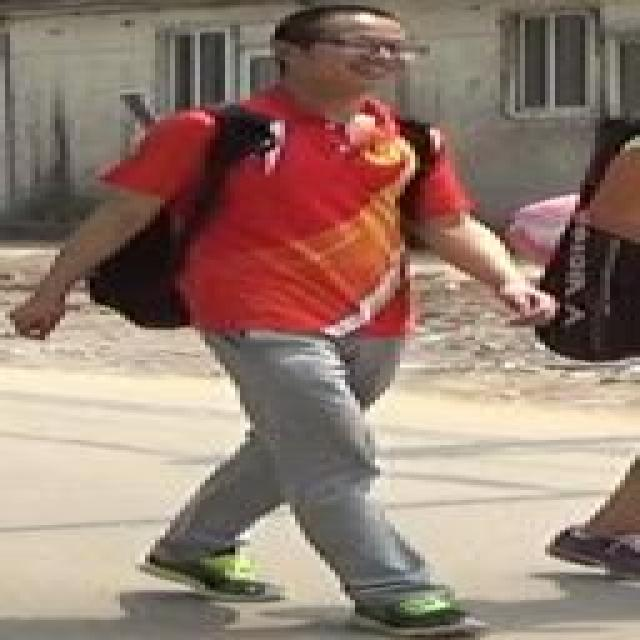adult: (27, 9, 557, 622)
